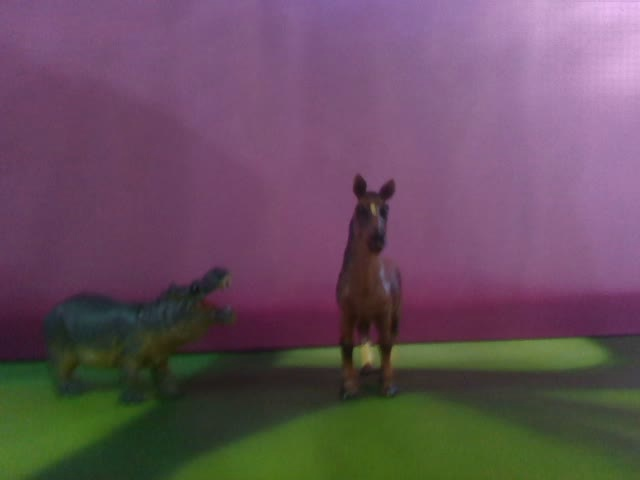toy: (41, 268, 236, 407), (334, 174, 403, 401)
